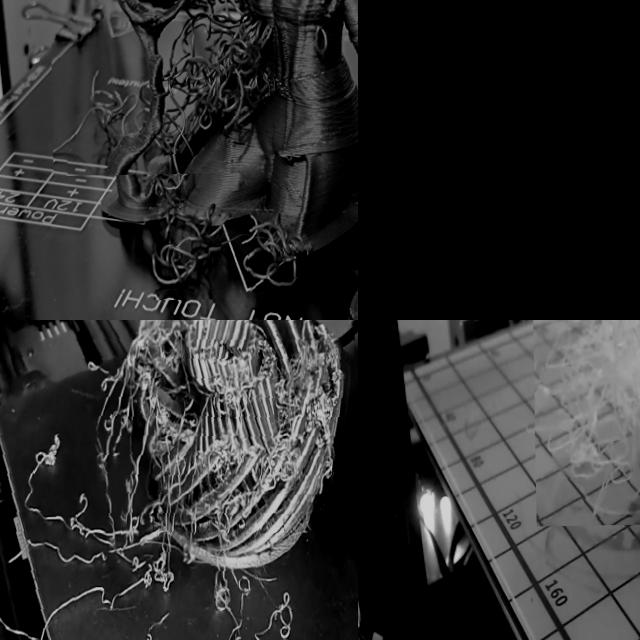spaghetti: (0, 320, 358, 640), (50, 0, 280, 175), (529, 320, 640, 526), (148, 175, 224, 300), (245, 212, 308, 307)
